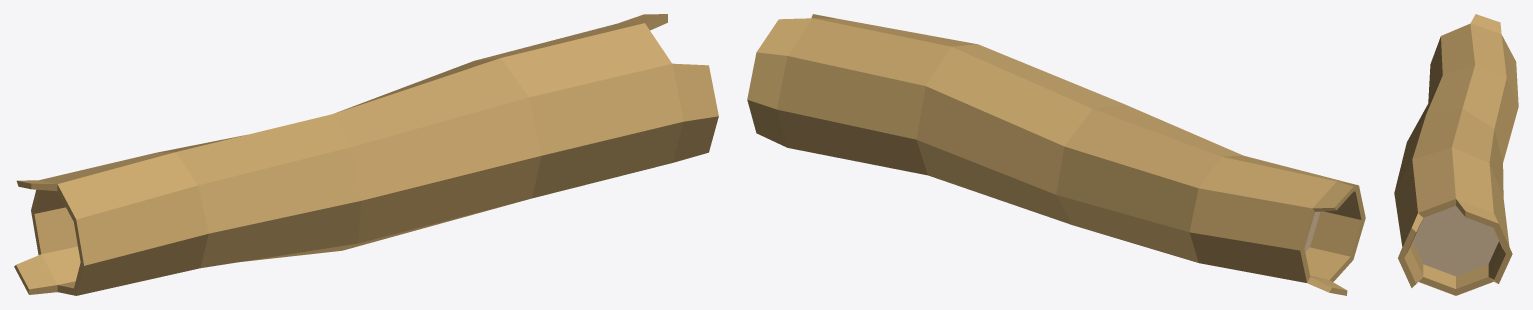
Rendered from Simple_Log_06.fbx.
3 views of the same model, side by side, from view 1: azimuth 30°, elevation 25°; view 2: azimuth 150°, elevation 25°; view 3: azimuth 270°, elevation 25° (orthographic). The views are drawn at different scales.
Parts seen in each view (by area): view 1: Simple_Log_06; view 2: Simple_Log_06; view 3: Simple_Log_06.
Boxes of the visible parts, box(x1,y1,x2,y2) form: Simple_Log_06: box(14, 14, 718, 295); Simple_Log_06: box(747, 14, 1365, 295); Simple_Log_06: box(1394, 14, 1518, 295).
Size of the model in its own units: 184 by 41.99 by 45.5.
